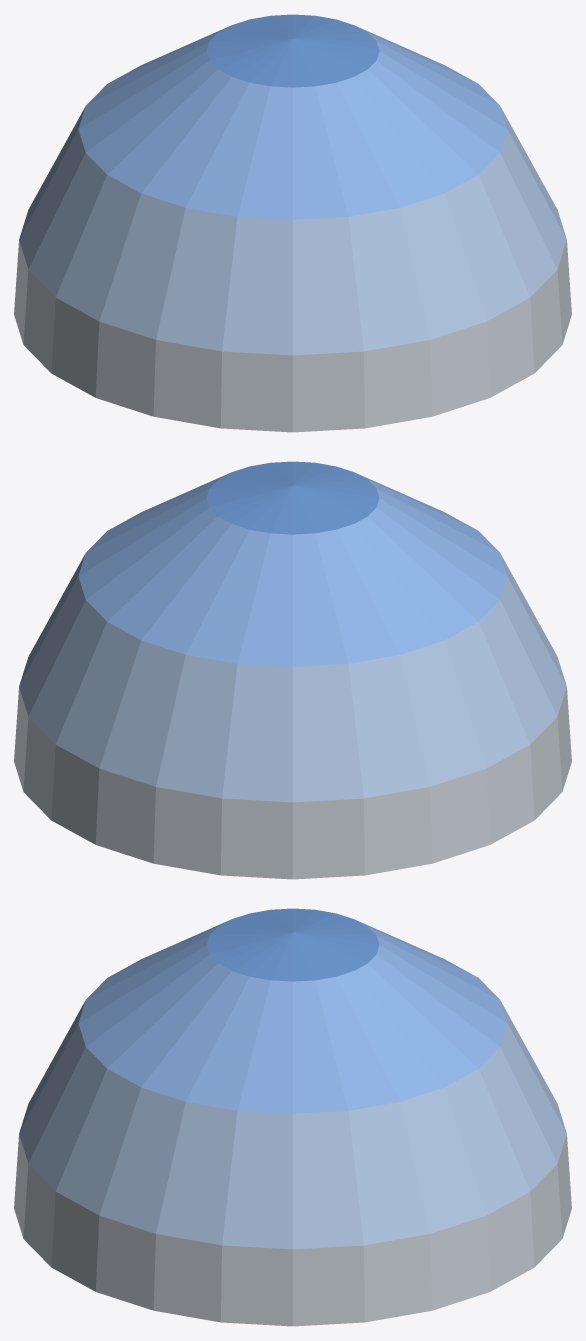
File: sky_city_day.glb
The picture shows the model from 3 angles, top to bottom: view 1: azimuth 30°, elevation 25°; view 2: azimuth 150°, elevation 25°; view 3: azimuth 270°, elevation 25°; orthographic projection.
Parts seen in each view (by area): view 1: skyband1, skyband2, skyband0, skyband3; view 2: skyband1, skyband2, skyband0, skyband3; view 3: skyband1, skyband2, skyband0, skyband3.
Part boxes in pixels (left/top/right/bottom): skyband1: left=19, top=107, right=566, bottom=355; skyband2: left=78, top=26, right=507, bottom=219; skyband0: left=14, top=240, right=571, bottom=432; skyband3: left=206, top=14, right=379, bottom=87; skyband1: left=19, top=554, right=566, bottom=802; skyband2: left=78, top=473, right=507, bottom=666; skyband0: left=14, top=687, right=571, bottom=879; skyband3: left=206, top=461, right=379, bottom=534; skyband1: left=19, top=1001, right=566, bottom=1249; skyband2: left=78, top=920, right=507, bottom=1113; skyband0: left=14, top=1134, right=571, bottom=1326; skyband3: left=206, top=908, right=379, bottom=981.
Size of the model in its own units: 179 by 97.84 by 179.
